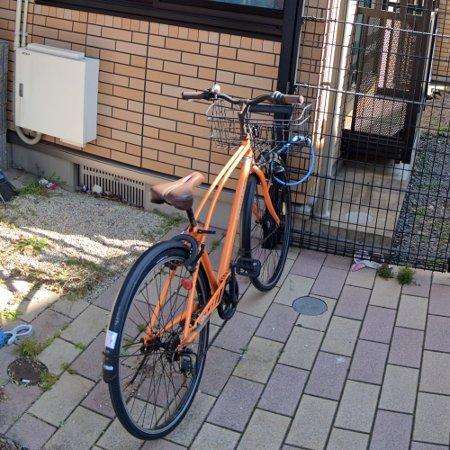bicycles: (103, 85, 313, 441)
